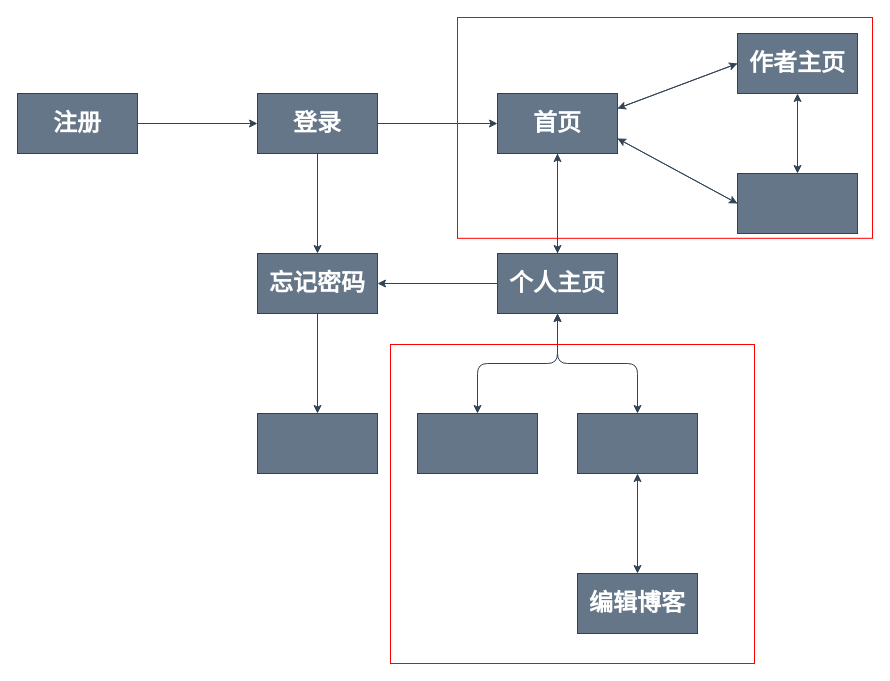
Some shapes in this 890 by 681 pixel diagram are drawn without their labels. The centre of each missing label's shape, as x and y in pixels:
"个人信息" goes at (477,443).
"个人博客" goes at (637,443).
"文章页面" goes at (797,203).
"重置密码" goes at (317,443).
